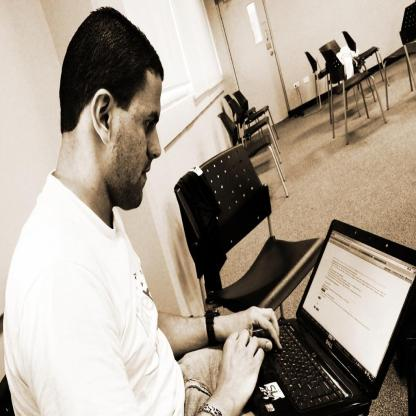board: (255, 252, 397, 404)
